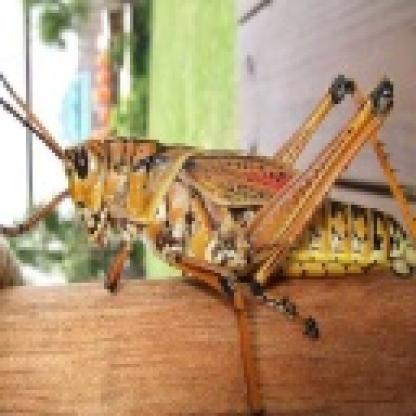grasshopper: (1, 70, 395, 406)
